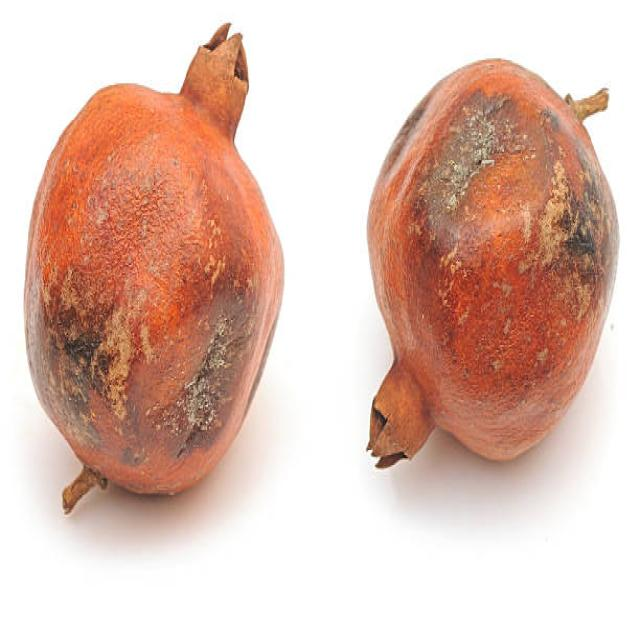Rotten: (21, 26, 286, 496), (365, 57, 619, 469)
